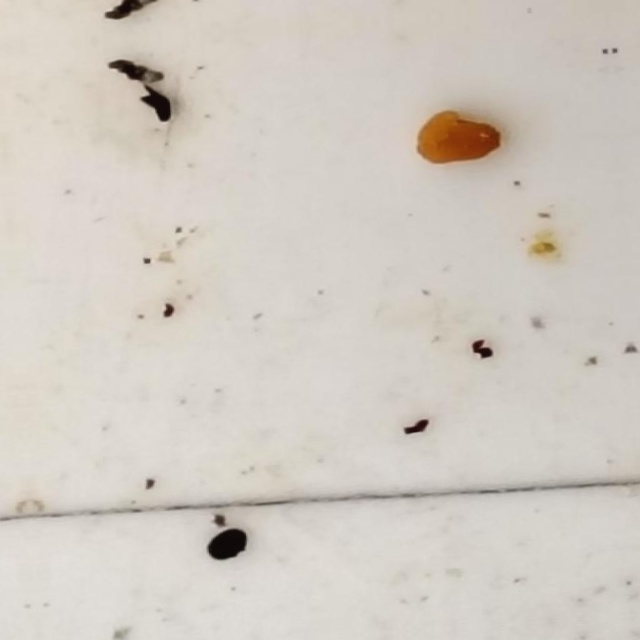varroa: (202, 528, 246, 563)
